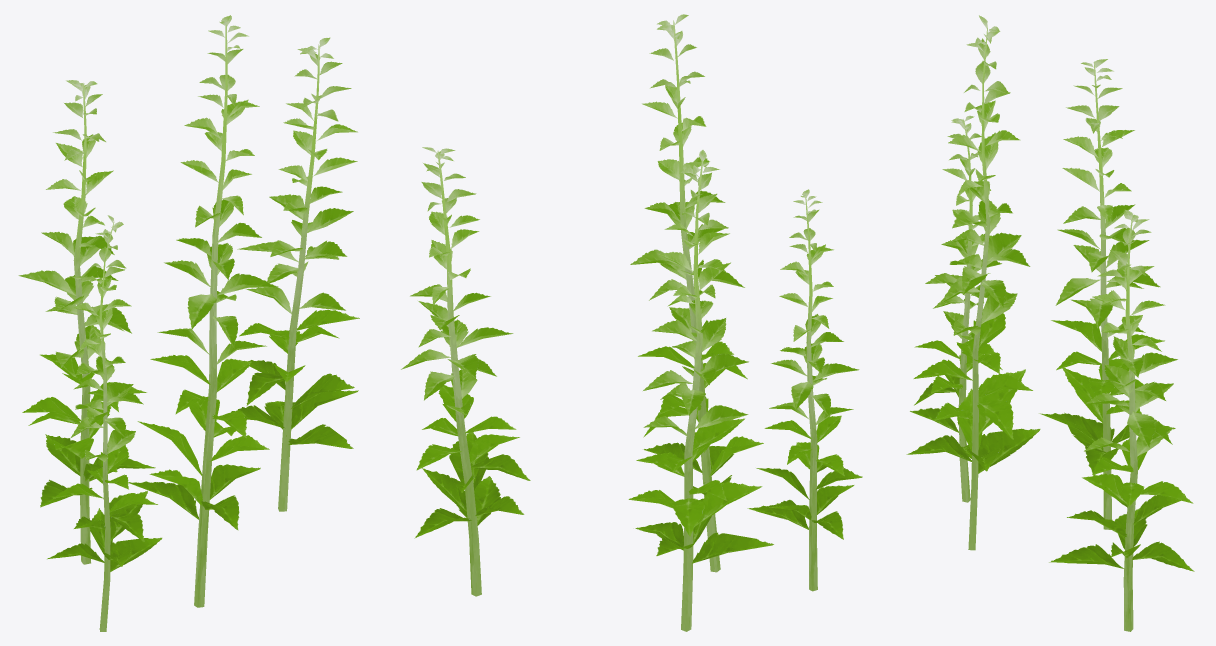
Rendered from Area_Dq_Grass_HZD_Zc_03.fbx.
3 renders of one model, left to right at view 1: azimuth 30°, elevation 25°; view 2: azimuth 150°, elevation 25°; view 3: azimuth 270°, elevation 25°, orthographic. The views are drawn at different scales.
Visible parts, largest first — view 1: Area_Dq_Grass_HZD_Zc_03_Lod0; view 2: Area_Dq_Grass_HZD_Zc_03_Lod0; view 3: Area_Dq_Grass_HZD_Zc_03_Lod0.
Boxes of the visible parts, left/top/right/bottom form: Area_Dq_Grass_HZD_Zc_03_Lod0: left=18, top=15, right=359, bottom=631; Area_Dq_Grass_HZD_Zc_03_Lod0: left=401, top=14, right=862, bottom=631; Area_Dq_Grass_HZD_Zc_03_Lod0: left=906, top=15, right=1194, bottom=631.
Bounding box in the file's own units: 2.75 × 3.92 × 1.96.
Materials: 1 (1 with a texture image).
